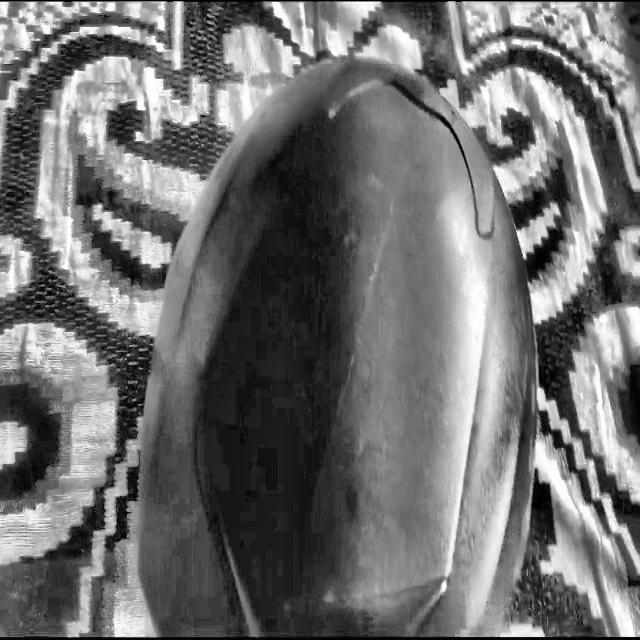Helmet: (137, 54, 547, 640)
